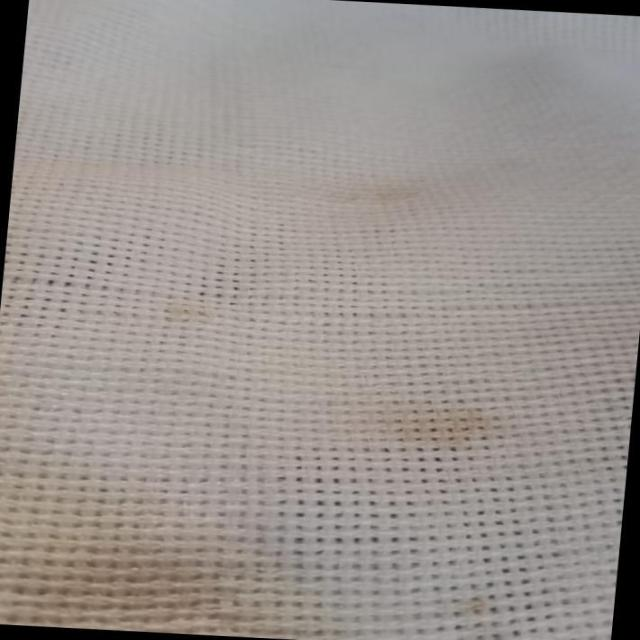stain: (383, 396, 513, 454), (341, 173, 441, 217), (450, 588, 533, 640)
